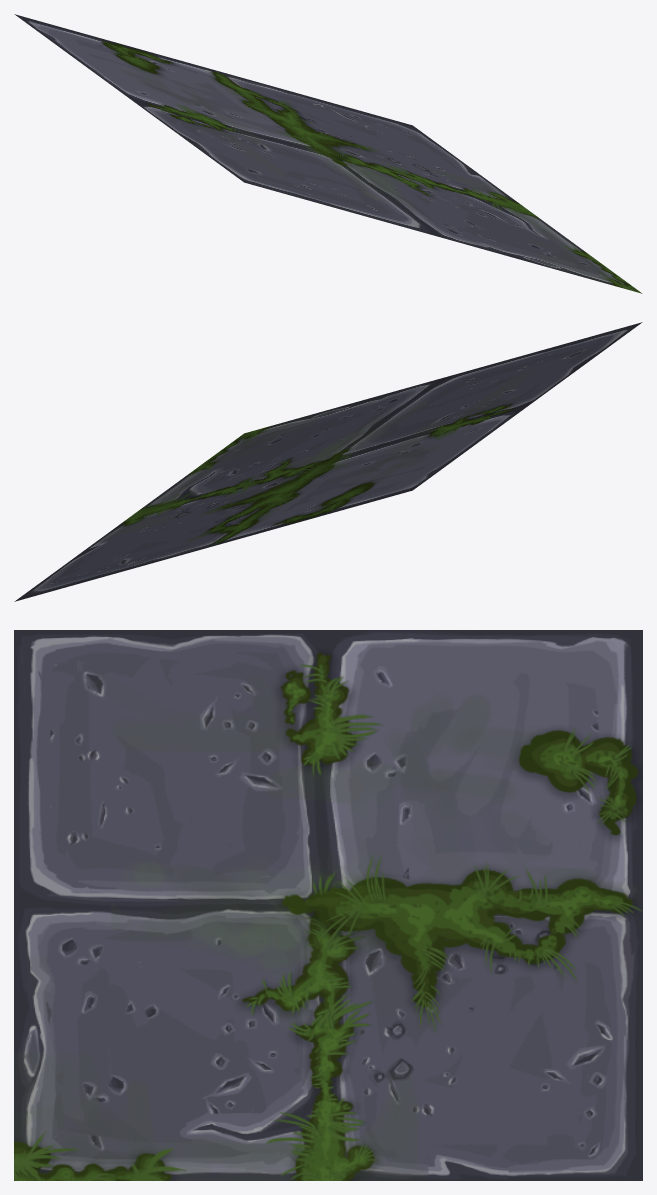
The model's file is MOD_Stairs_01_BotCap_4_half.fbx.
3 renders of one model, top to bottom at view 1: azimuth 30°, elevation 25°; view 2: azimuth 150°, elevation 25°; view 3: azimuth 270°, elevation 25°, orthographic. The views are drawn at different scales.
Parts seen in each view (by area): view 1: MOD_Stairs_01_BotCap_4_half; view 2: MOD_Stairs_01_BotCap_4_half; view 3: MOD_Stairs_01_BotCap_4_half.
Part boxes in pixels (x1=…): MOD_Stairs_01_BotCap_4_half: x1=14, y1=14, x2=642, y2=293; MOD_Stairs_01_BotCap_4_half: x1=14, y1=322, x2=642, y2=601; MOD_Stairs_01_BotCap_4_half: x1=14, y1=630, x2=642, y2=1180.
Bounding box in the file's own units: 200 × 100 × 200.
